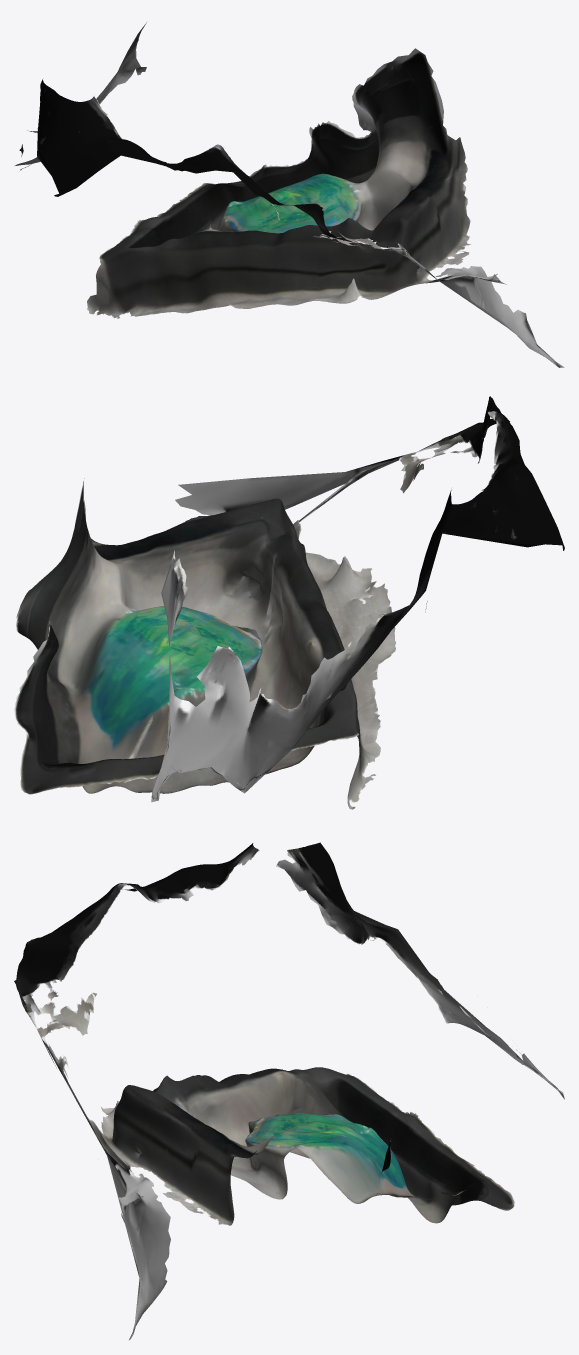
The picture shows the model from 3 angles, top to bottom: view 1: azimuth 30°, elevation 25°; view 2: azimuth 150°, elevation 25°; view 3: azimuth 270°, elevation 25°; orthographic projection. The views are drawn at different scales.
Bounding box in the file's own units: 0.6802 × 0.4486 × 0.7362.
1 material, 1 textured.
